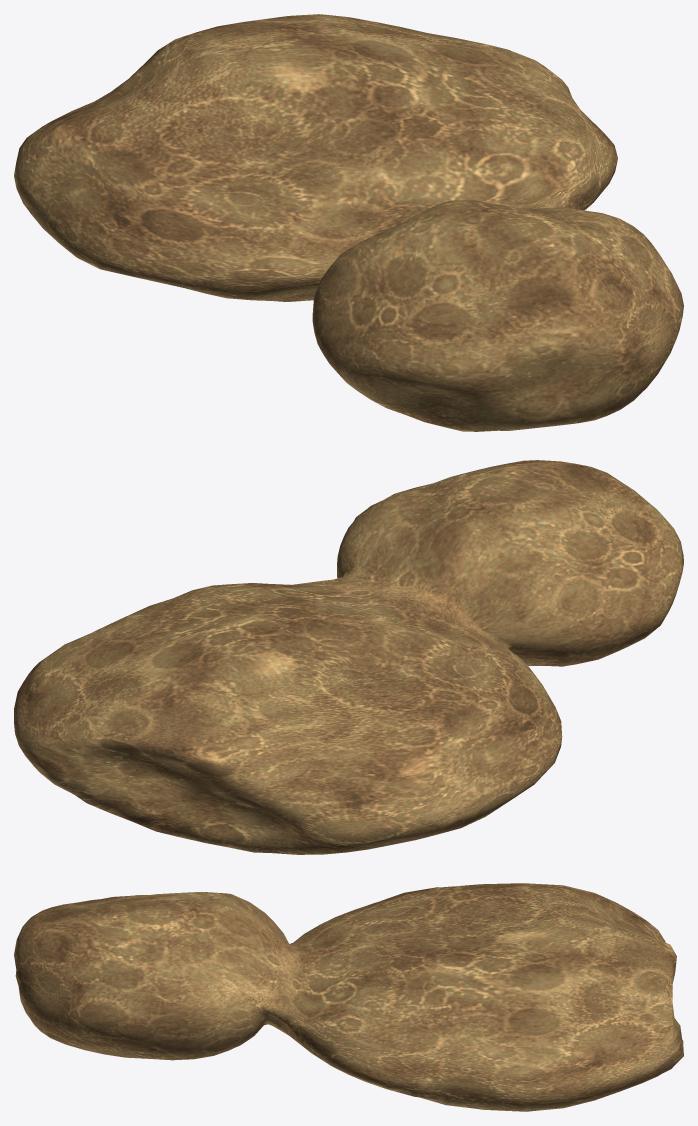
File: ultimathule.glb
3 renders of one model, top to bottom at view 1: azimuth 30°, elevation 25°; view 2: azimuth 150°, elevation 25°; view 3: azimuth 270°, elevation 25°, orthographic. The views are drawn at different scales.
Parts seen in each view (by area): view 1: MU69_02; view 2: MU69_02; view 3: MU69_02.
Part boxes in pixels (x1,y1,x2,y2): MU69_02: (14, 14, 683, 431); MU69_02: (14, 460, 683, 854); MU69_02: (14, 883, 683, 1111).
Size of the model in its own units: 2 by 0.6112 by 2.82.
Materials: 1 (1 with a texture image).
